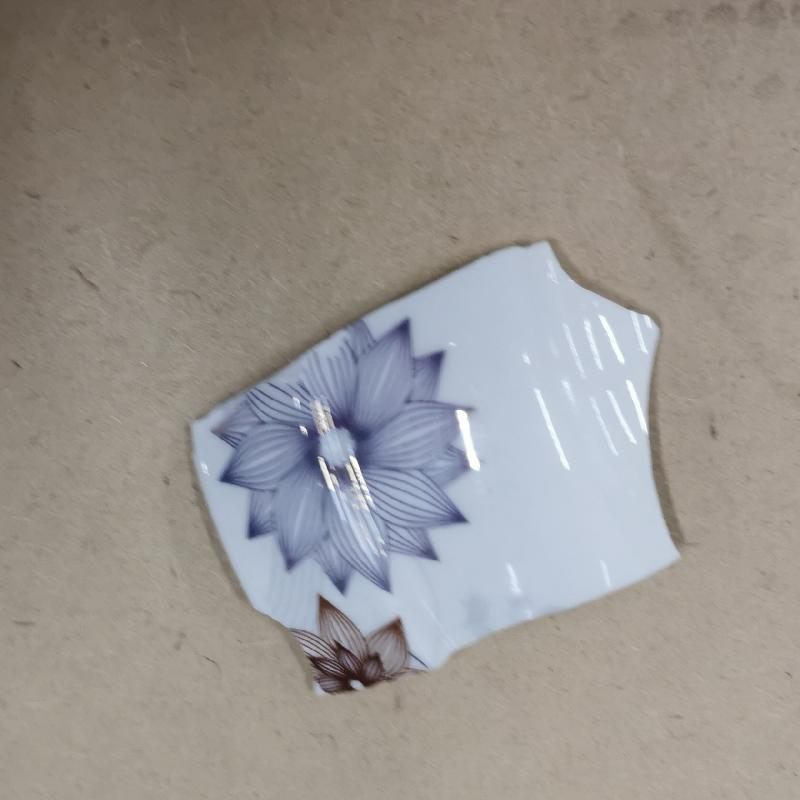ceram: (182, 237, 699, 699)
